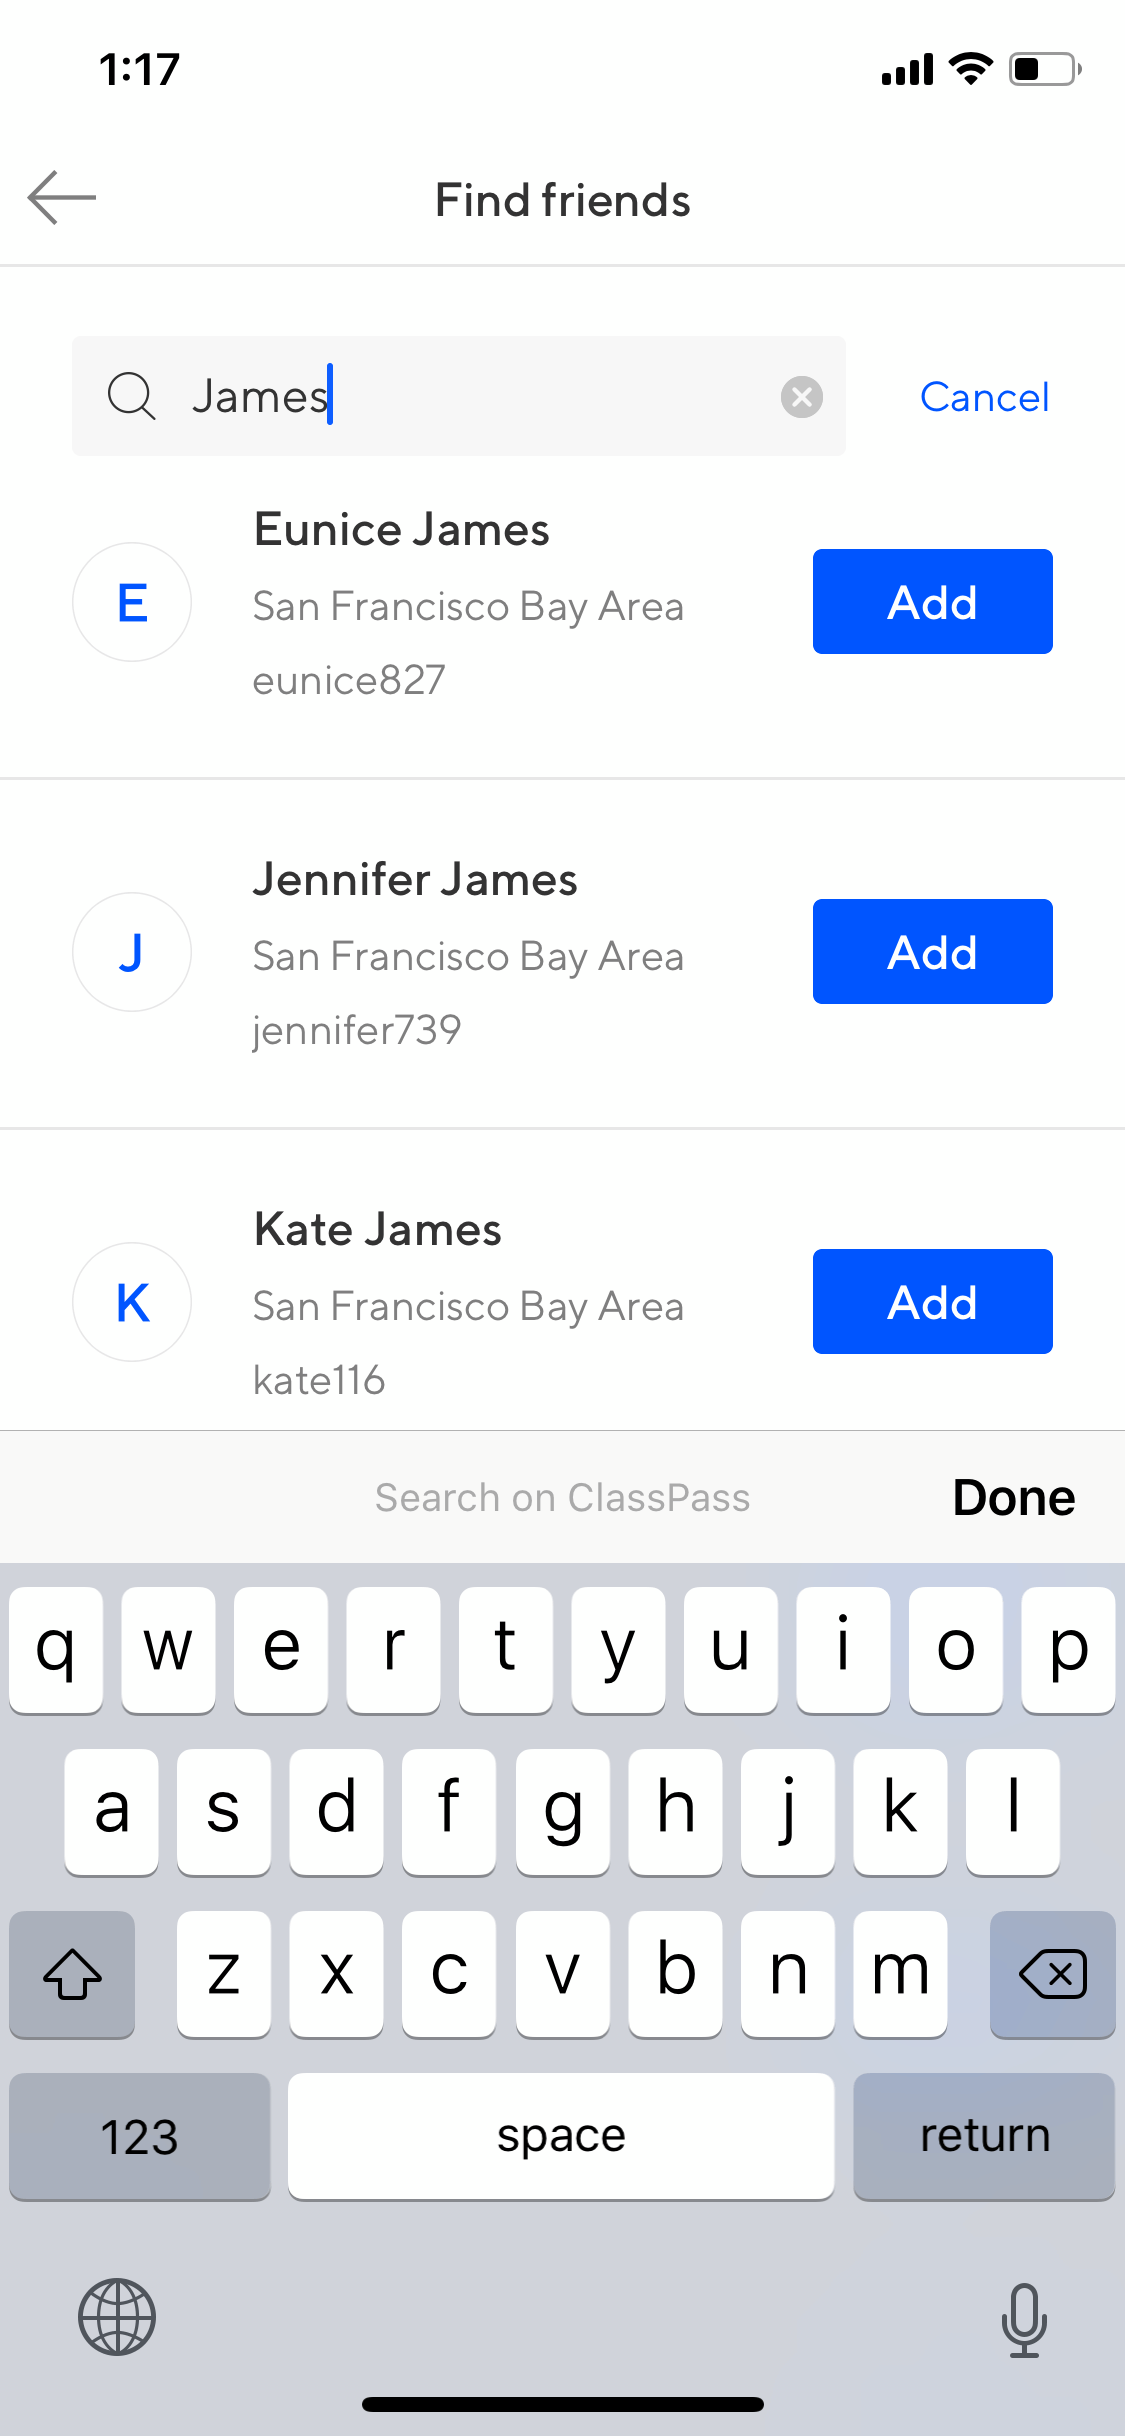Buttons: (803, 1230, 1068, 1369), (800, 534, 1057, 671), (799, 886, 1064, 1014), (898, 337, 1069, 447), (2, 130, 126, 249)
